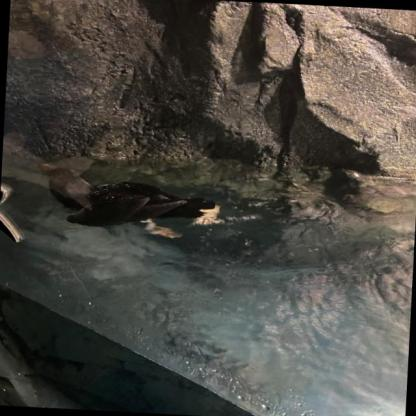puffin: (67, 172, 240, 245)
